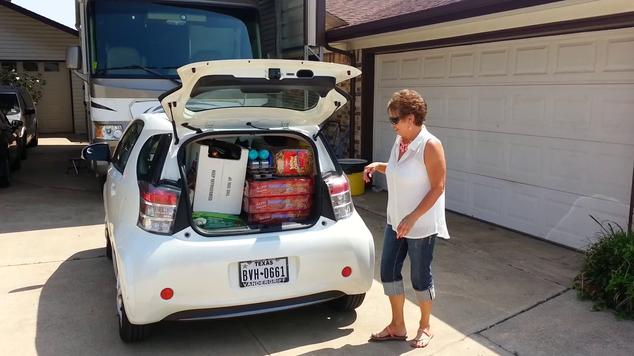stay: (374, 99, 443, 311)
